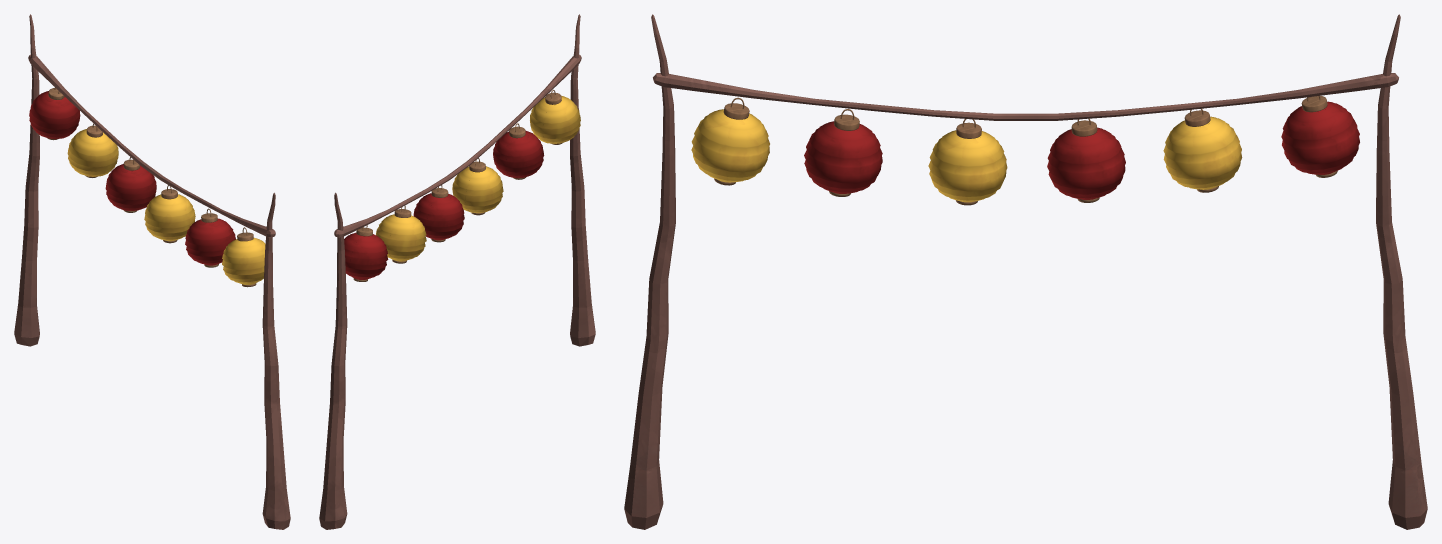
The model's file is flagPoleWLanterns.fbx.
The picture shows the model from 3 angles, left to right: view 1: azimuth 30°, elevation 25°; view 2: azimuth 150°, elevation 25°; view 3: azimuth 270°, elevation 25°; orthographic projection. The views are drawn at different scales.
Parts seen in each view (by area): view 1: banner; view 2: banner; view 3: banner.
Part boxes in pixels (x1=…): banner: x1=14, y1=14, x2=290, y2=529; banner: x1=319, y1=14, x2=595, y2=529; banner: x1=624, y1=14, x2=1427, y2=529.
Size of the model in its own units: 242 by 1722 by 2451.
